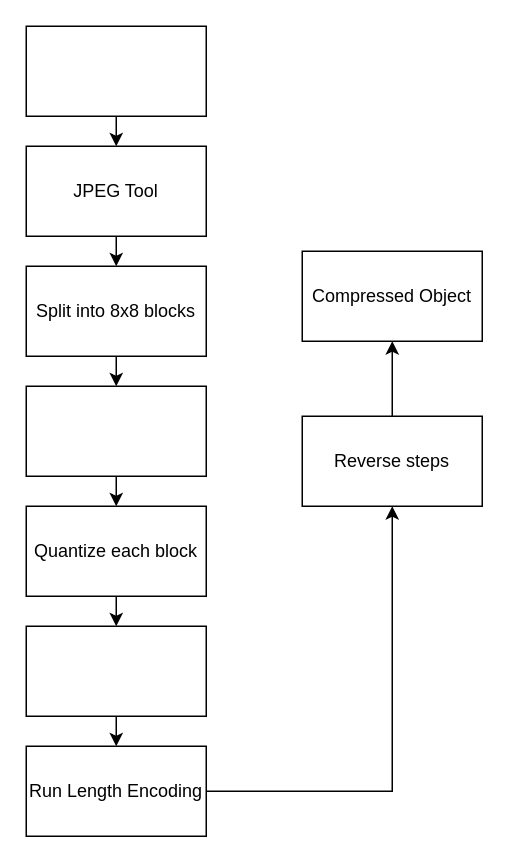
Some shapes in this 509 by 863 pixel diagram are drawn without their labels. Here are the shapes that lost their labels. From the top down, the box of each, then its label:
(25, 25, 206, 116): Uncompressed Object
(25, 385, 206, 476): Discrete Cosine Transform on each block
(25, 625, 206, 716): Zigzag Encoding
